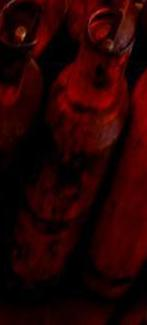cylinder: (1, 0, 147, 325)
